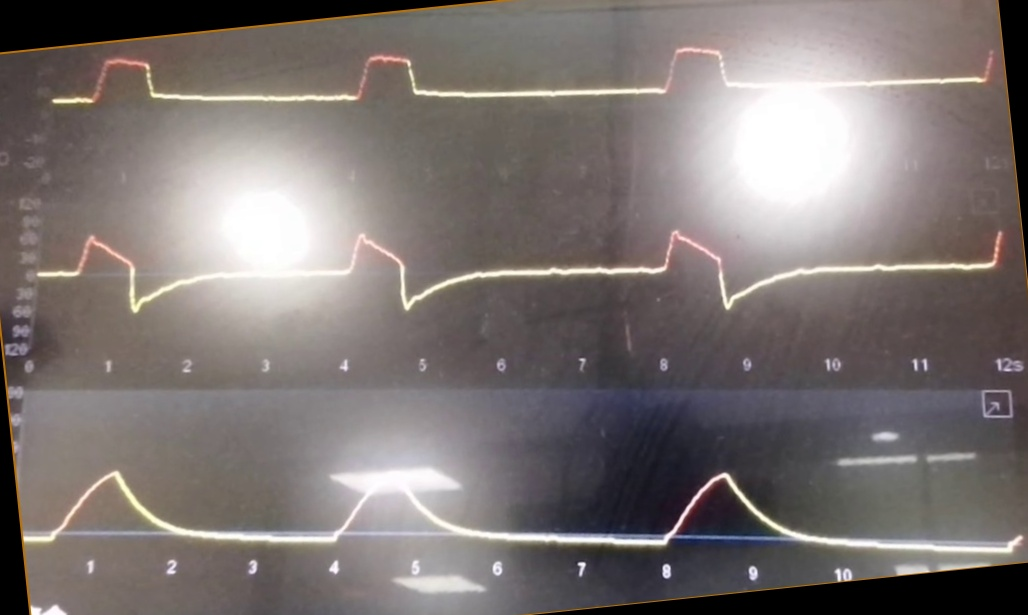Normal Flow: (41, 178, 1012, 341)
Normal Volume: (25, 435, 1023, 560)
